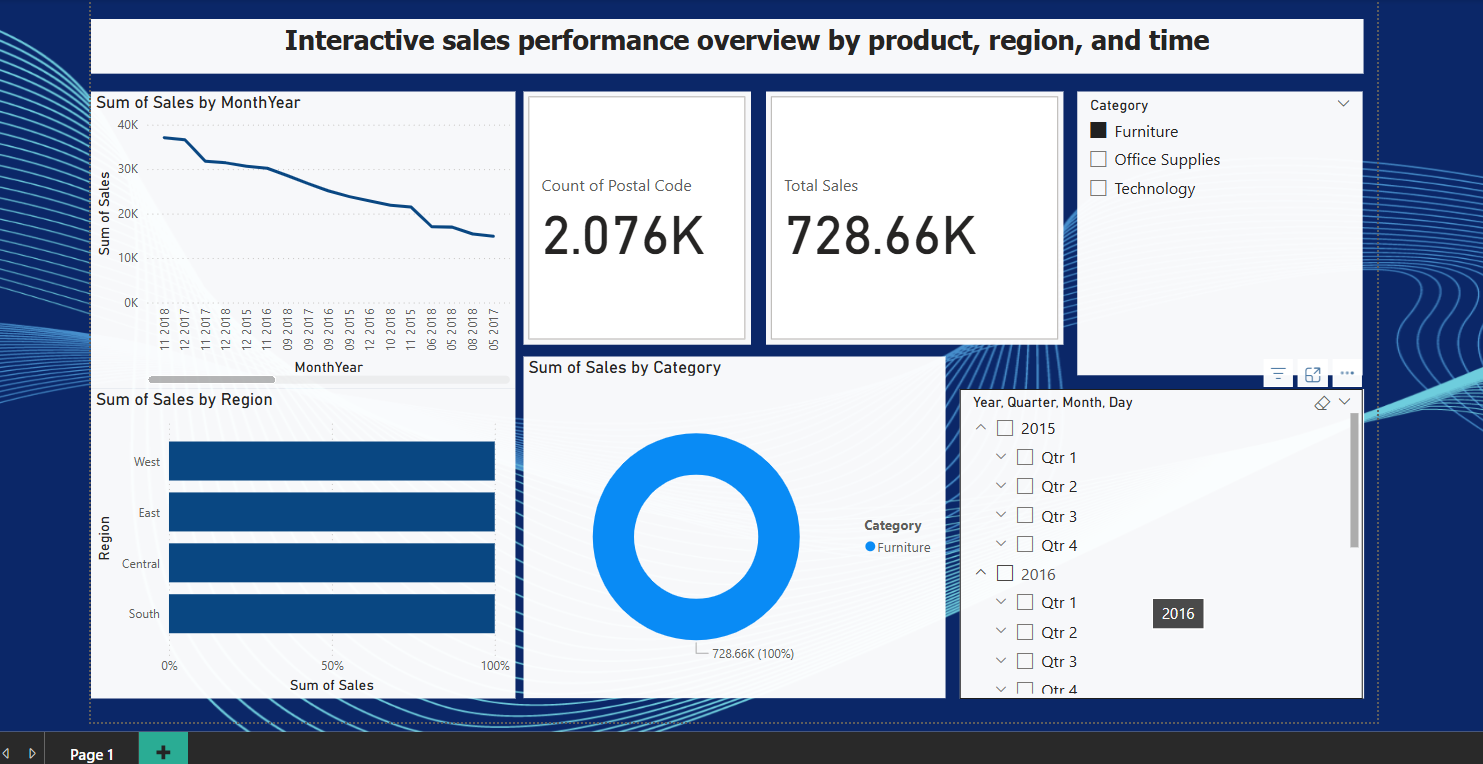

The page's visual inventory and layout, read from the dashboard file:
{"tool":"powerbi","page":{"name":"Page 1","canvas":[1280,720],"ordinal":0},"visuals":[{"type":"lineChart","fields":{"Category":["train.MonthYear"],"Y":["Sum(train.Sales)"]},"box":[0,92,422,296],"z":0},{"type":"hundredPercentStackedBarChart","fields":{"Category":["train.Region"],"Y":["Sum(train.Sales)"]},"box":[0,388,422,308],"z":1000},{"type":"donutChart","fields":{"Category":["train.Category"],"Y":["Sum(train.Sales)"]},"box":[430,356,420,340],"z":2000},{"type":"slicer","fields":{"Values":["train.Category"]},"box":[982,92,284,282],"z":3000},{"type":"cardVisual","fields":{"Data":["Sum(train.Sales)"]},"box":[672,92,296,252],"z":4000},{"type":"textbox","box":[0,20,1266,54],"z":5000},{"type":"slicer","fields":{"Values":["train.Order Date.Variation.Date Hierarchy.Year","train.Order Date.Variation.Date Hierarchy.Quarter","train.Order Date.Variation.Date Hierarchy.Month","train.Order Date.Variation.Date Hierarchy.Day"]},"box":[864,388,402,308],"z":6000},{"type":"cardVisual","fields":{"Data":["CountNonNull(train.Postal Code)"]},"box":[430,92,226,252],"z":6001}]}

Visuals, with their boxes on the page's 1280x720 design canvas (x1, y1, x2, y2). These are canvas units, not pixel positions in the 1483x764 screenshot, which may show the page scaled, cropped or inside an application window:
lineChart - train.MonthYear x Sum(train.Sales): {"left": 0, "top": 92, "right": 422, "bottom": 388}
hundredPercentStackedBarChart - train.Region x Sum(train.Sales): {"left": 0, "top": 388, "right": 422, "bottom": 696}
donutChart - train.Category x Sum(train.Sales): {"left": 430, "top": 356, "right": 850, "bottom": 696}
slicer - train.Category: {"left": 982, "top": 92, "right": 1266, "bottom": 374}
cardVisual - Sum(train.Sales): {"left": 672, "top": 92, "right": 968, "bottom": 344}
textbox: {"left": 0, "top": 20, "right": 1266, "bottom": 74}
slicer - train.Order Date.Variation.Date Hierarchy.Year x train.Order Date.Variation.Date Hierarchy.Quarter: {"left": 864, "top": 388, "right": 1266, "bottom": 696}
cardVisual - CountNonNull(train.Postal Code): {"left": 430, "top": 92, "right": 656, "bottom": 344}
